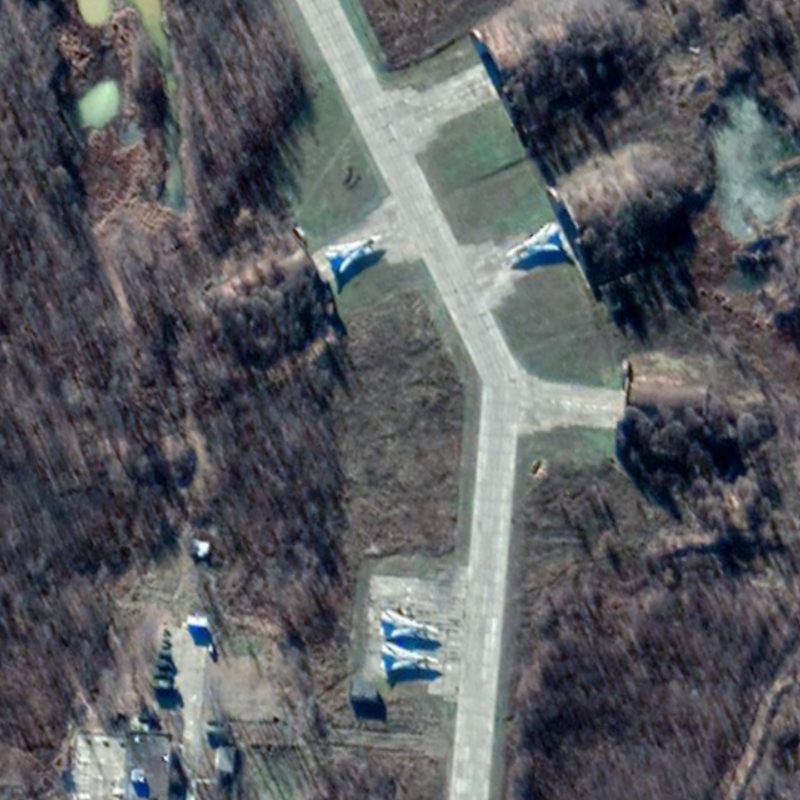A20: (323, 232, 384, 275), (375, 607, 441, 642), (504, 221, 563, 258), (378, 641, 440, 674)
